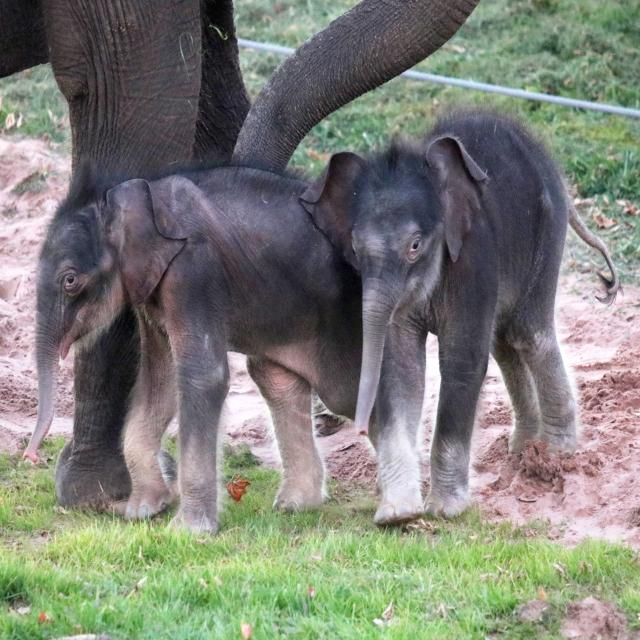Elephant: (34, 180, 352, 541), (314, 109, 588, 506)
